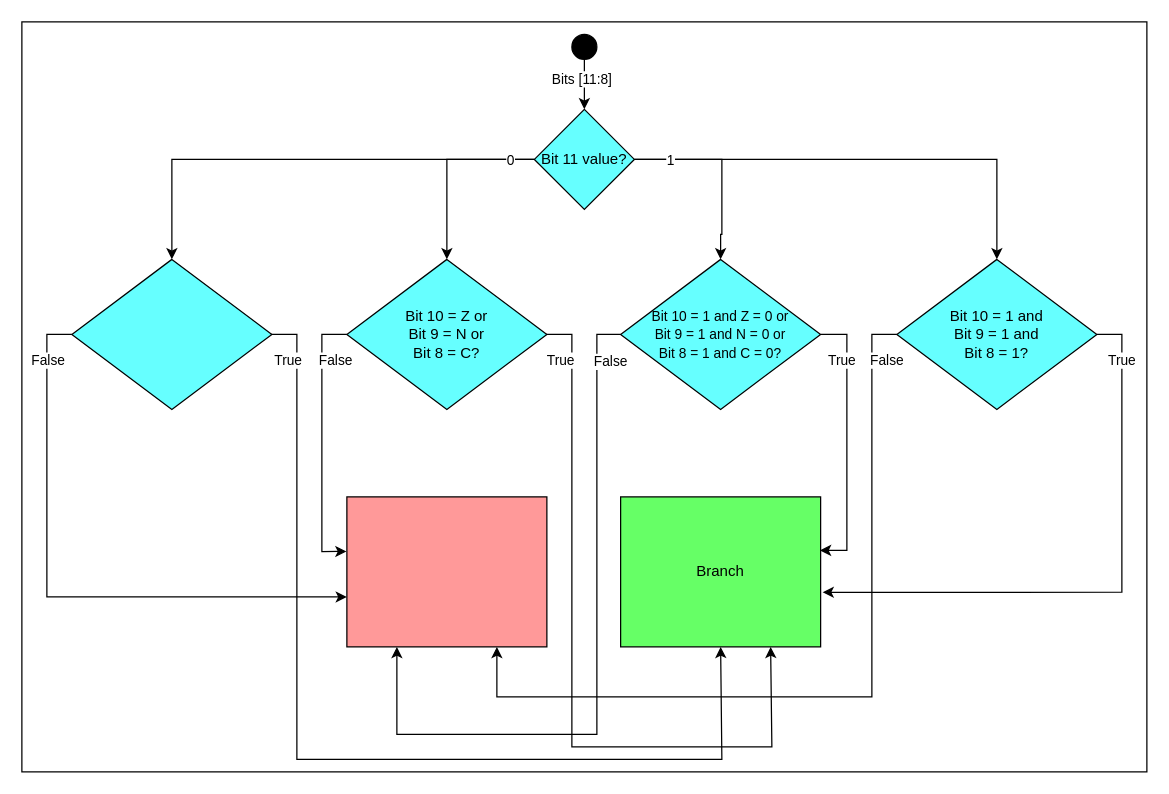
This 1169x794 diagram has some shape labels left out. Each missing label, with the box of its shape:
Bit 10 = 0 and Bit 9 = 0 and Bit 8 = 0?: (71, 258, 272, 409)
Do not Branch: (346, 496, 547, 647)
